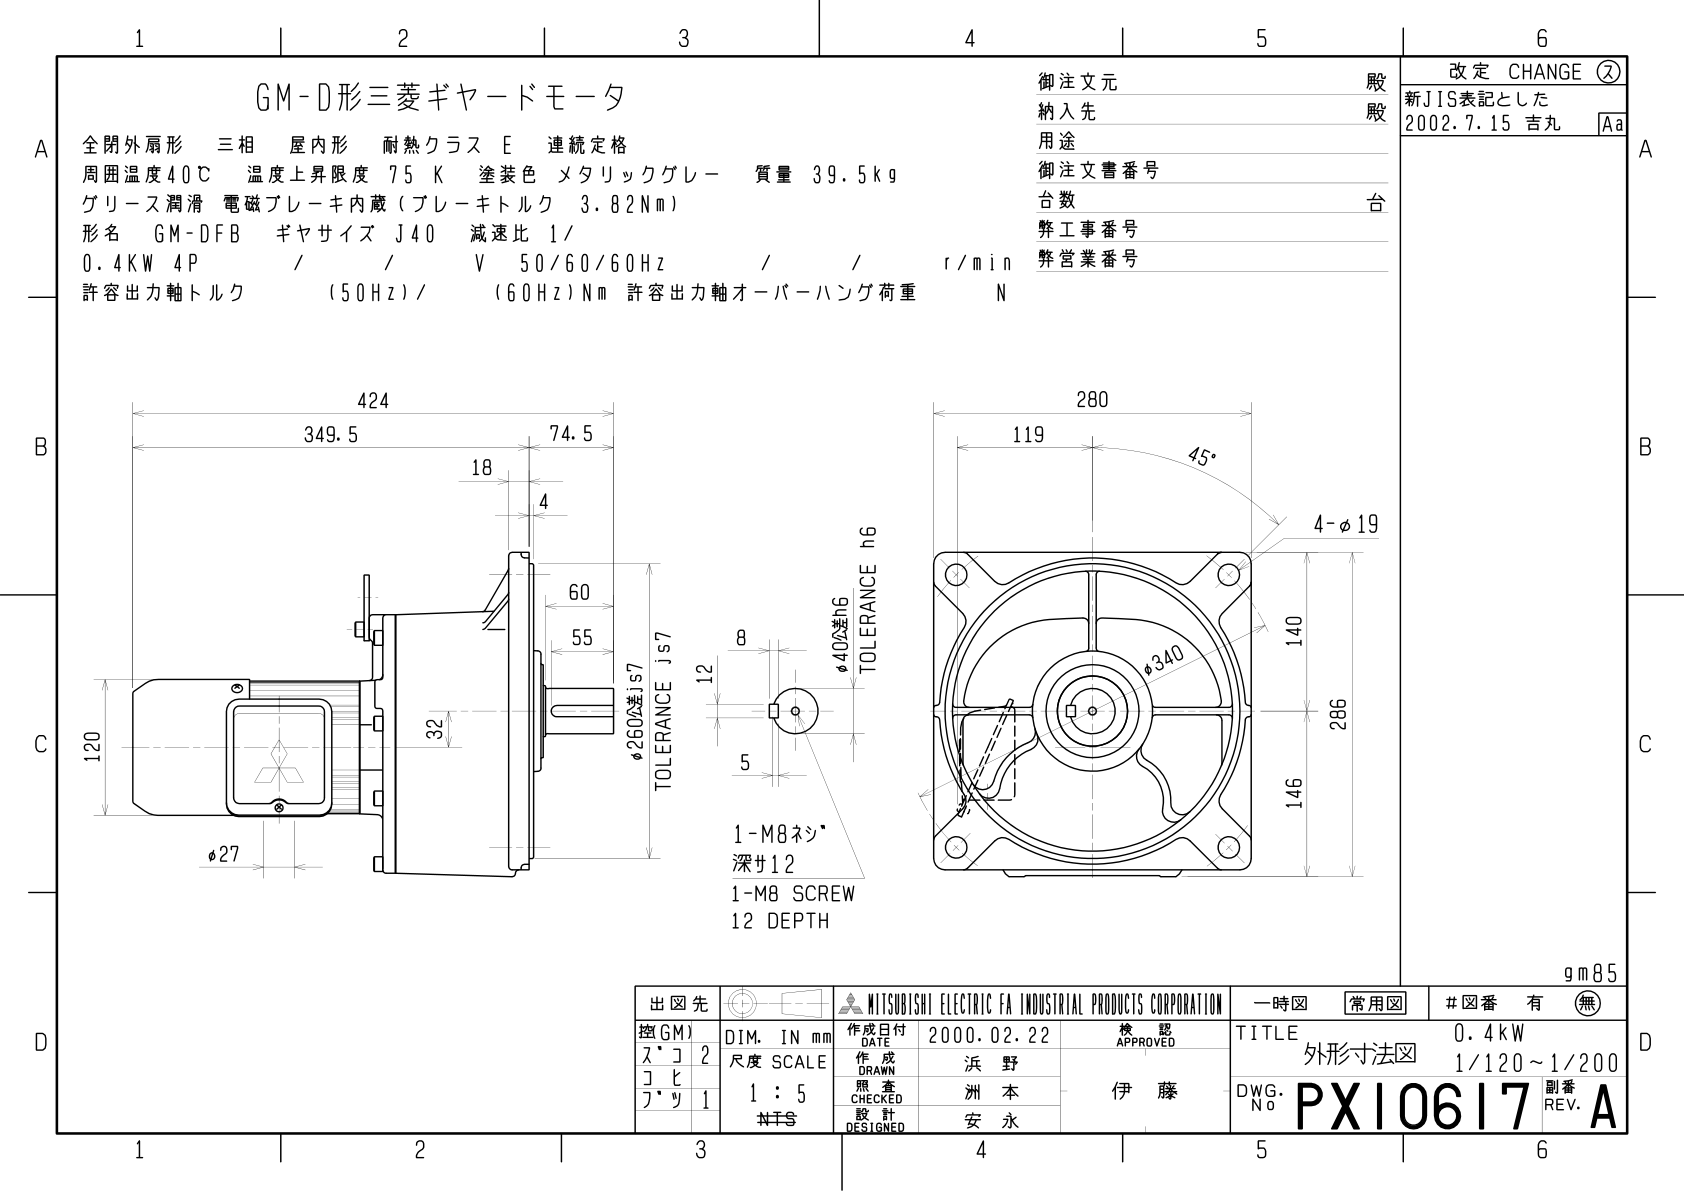GM_D_屋内＿三相_フランジ: (70, 335, 1389, 947)
